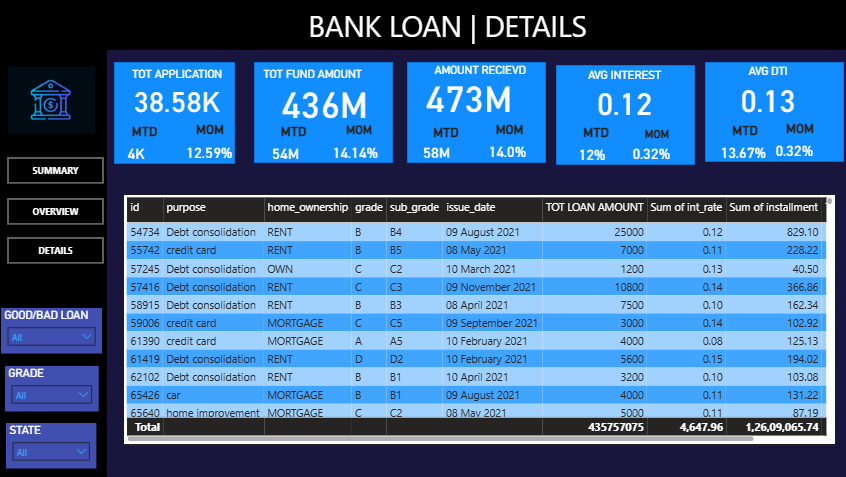

Layout of this report page (visuals, bound fields, positions):
{"tool":"powerbi","page":{"name":"DETAILS","canvas":[1280,720],"ordinal":2},"visuals":[{"type":"shape","box":[10.5,0,1269.7,720],"z":0},{"type":"card","title":"TOT APPLICATION","fields":{"Values":["date.TOTAL APPLICATION"]},"box":[183.9,92.1,194.1,90.8],"z":0,"group":"g1"},{"type":"card","title":"TOT FUND AMOUNT","fields":{"Values":["date.TOT LOAN AMOUNT"]},"box":[404.8,92.1,188.8,87.4],"z":0,"group":"g5"},{"type":"card","title":"AVG INTEREST","fields":{"Values":["date.avg int"]},"box":[861.9,95.2,190.5,76.2],"z":0,"group":"g3"},{"type":"card","title":"AVG DTI","fields":{"Values":["date.Avg dti"]},"box":[1082.5,95.2,176.2,95.2],"z":0,"group":"g4"},{"type":"shape","box":[10.5,0,1269.7,74.7],"z":1000},{"type":"cardVisual","fields":{"Data":["date.APP mom"]},"box":[182.5,172.7,112.6,60.1],"z":1000,"group":"g1"},{"type":"cardVisual","fields":{"Data":["date.dti mtd"]},"box":[1168.2,184.1,107.1,55.3],"z":1000,"group":"g4"},{"type":"shape","box":[10.5,61.2,164.3,658.8],"z":2000},{"type":"cardVisual","fields":{"Data":["date.app mtd"]},"box":[277.7,176.9,127.4,60.1],"z":2000,"group":"g1"},{"type":"cardVisual","fields":{"Data":["date.dti mom"]},"box":[1066.7,184.1,107.1,56.9],"z":2000,"group":"g4"},{"type":"shape","box":[185.2,92.6,180.7,152.4],"z":3000},{"type":"shape","box":[394.4,92.6,207.6,150.9],"z":4000},{"type":"shape","box":[622.9,92.6,207.6,150.9],"z":5000},{"type":"shape","box":[845.5,92.6,207.6,149.4],"z":6000},{"type":"shape","box":[1068,92.6,207.6,149.4],"z":7000},{"type":"cardVisual","fields":{"Data":["date.avg int mom"]},"box":[841.3,179.3,127.8,60.8],"z":7000,"group":"g3"},{"type":"cardVisual","fields":{"Data":["date.int mtd"]},"box":[958.1,181.2,110.2,57.1],"z":8000,"group":"g3"},{"type":"slicer","title":"GOOD/BAD LOAN","fields":{"Values":["financial_loan.GOOD/BAD LOAN"]},"box":[15.9,460.3,150.8,68.3],"z":8000},{"type":"cardVisual","fields":{"Data":["date.APP mom"]},"box":[716.5,186.8,110.2,54.3],"z":9000,"group":"g2"},{"type":"slicer","title":"GRADE","fields":{"Values":["financial_loan.grade"]},"box":[22.2,546,139.7,68.3],"z":9000},{"type":"cardVisual","fields":{"Data":["date.APP mom"]},"box":[612.7,183.6,105.7,57.8],"z":10000,"group":"g2"},{"type":"slicer","title":"STATE","fields":{"Values":["financial_loan.address_state"]},"box":[23.8,631.7,134.9,68.3],"z":10000},{"type":"image","box":[22.2,81,139.7,136.5],"z":11000},{"type":"tableEx","fields":{"Values":["financial_loan.id","financial_loan.purpose","financial_loan.home_ownership","financial_loan.grade","financial_loan.sub_grade","financial_loan.issue_date","date.TOT LOAN AMOUNT","Sum(financial_loan.int_rate)","Sum(financial_loan.installment)","date.TOTAL PAYMENT"]},"box":[198.4,290.5,1065.1,374.6],"z":12000},{"type":"textbox","box":[469.8,4.8,495.2,87.3],"z":13000},{"type":"cardVisual","fields":{"Data":["date.loan mtd"]},"box":[410.1,176.5,103.2,60.3],"z":13000,"group":"g5"},{"type":"group","id":"g1","title":"Group 2","box":[182.5,92.1,222.2,144.4],"z":14000},{"type":"cardVisual","fields":{"Data":["date.loan mom"]},"box":[496.9,171.1,105.8,62.3],"z":14000,"group":"g5"},{"type":"group","id":"g2","title":"Group 1","box":[612.7,90.5,214.3,150.8],"z":15000},{"type":"group","id":"g3","title":"Group 4","box":[841.3,95.2,227,144.4],"z":16000},{"type":"group","id":"g4","title":"Group 5","box":[1066.7,95.2,207.9,144.4],"z":17000},{"type":"cardVisual","title":"AMOUNT RECIEVD","fields":{"Data":["date.TOTAL PAYMENT"]},"box":[620.4,90.5,207.1,94.6],"z":18000,"group":"g2"},{"type":"group","id":"g5","title":"Group 3","box":[404.8,92.1,198.4,144.4],"z":18000},{"type":"actionButton","box":[25.4,234.5,144.9,40.3],"z":18001},{"type":"actionButton","box":[25.4,295.8,144.9,40.3],"z":18002},{"type":"actionButton","box":[25.4,354,144.9,40.3],"z":18003}]}

Visuals, with their boxes in screenshot pixels (x1, y1, x2, y2), scaled from the page's 1280x720 canvas onto the 846x477 screenshot:
shape: <region>7, 0, 845, 476</region>
"TOT APPLICATION" card: <region>122, 61, 250, 121</region>
"TOT FUND AMOUNT" card: <region>268, 61, 392, 119</region>
"AVG INTEREST" card: <region>570, 63, 696, 114</region>
"AVG DTI" card: <region>715, 63, 832, 126</region>
shape: <region>7, 0, 845, 49</region>
cardVisual - date.APP mom: <region>121, 114, 195, 154</region>
cardVisual - date.dti mtd: <region>772, 122, 843, 159</region>
shape: <region>7, 41, 116, 476</region>
cardVisual - date.app mtd: <region>184, 117, 268, 157</region>
cardVisual - date.dti mom: <region>705, 122, 776, 160</region>
shape: <region>122, 61, 242, 162</region>
shape: <region>261, 61, 398, 161</region>
shape: <region>412, 61, 549, 161</region>
shape: <region>559, 61, 696, 160</region>
shape: <region>706, 61, 843, 160</region>
cardVisual - date.avg int mom: <region>556, 119, 641, 159</region>
cardVisual - date.int mtd: <region>633, 120, 706, 158</region>
"GOOD/BAD LOAN" slicer: <region>11, 305, 110, 350</region>
cardVisual - date.APP mom: <region>474, 124, 546, 160</region>
"GRADE" slicer: <region>15, 362, 107, 407</region>
cardVisual - date.APP mom: <region>405, 122, 475, 160</region>
"STATE" slicer: <region>16, 419, 105, 464</region>
image: <region>15, 54, 107, 144</region>
tableEx - financial_loan.id x financial_loan.purpose: <region>131, 192, 835, 441</region>
textbox: <region>311, 3, 638, 61</region>
cardVisual - date.loan mtd: <region>271, 117, 339, 157</region>
"Group 2" group: <region>121, 61, 267, 157</region>
cardVisual - date.loan mom: <region>328, 113, 398, 155</region>
"Group 1" group: <region>405, 60, 547, 160</region>
"Group 4" group: <region>556, 63, 706, 159</region>
"Group 5" group: <region>705, 63, 842, 159</region>
"AMOUNT RECIEVD" cardVisual: <region>410, 60, 547, 123</region>
"Group 3" group: <region>268, 61, 399, 157</region>
actionButton: <region>17, 155, 113, 182</region>
actionButton: <region>17, 196, 113, 223</region>
actionButton: <region>17, 235, 113, 261</region>
